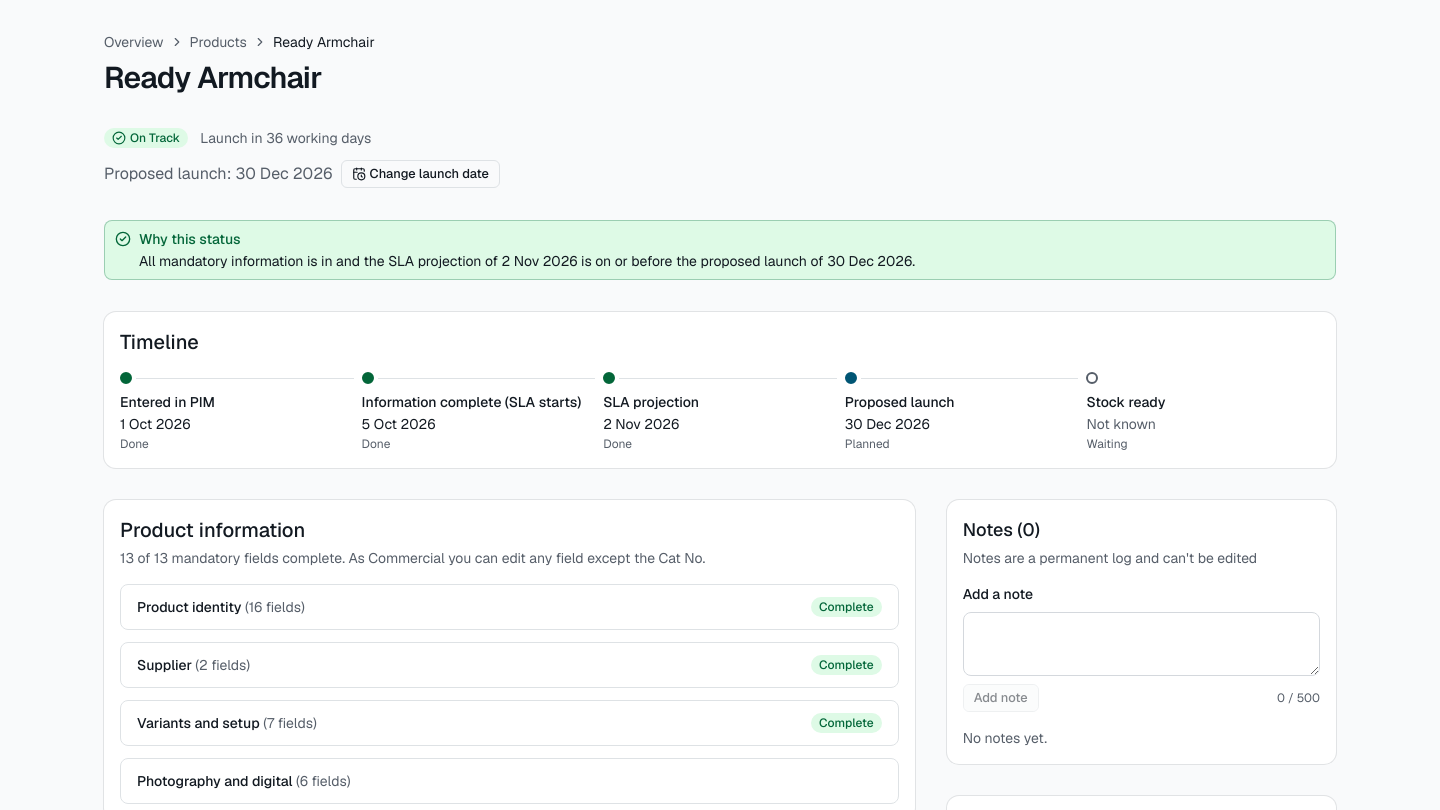
Test: ProductDetailView › launch date › lets the commercial team change the proposed date and cancel
Click the button "Change launch date" at x=420, y=174, box [341, 160, 500, 188]
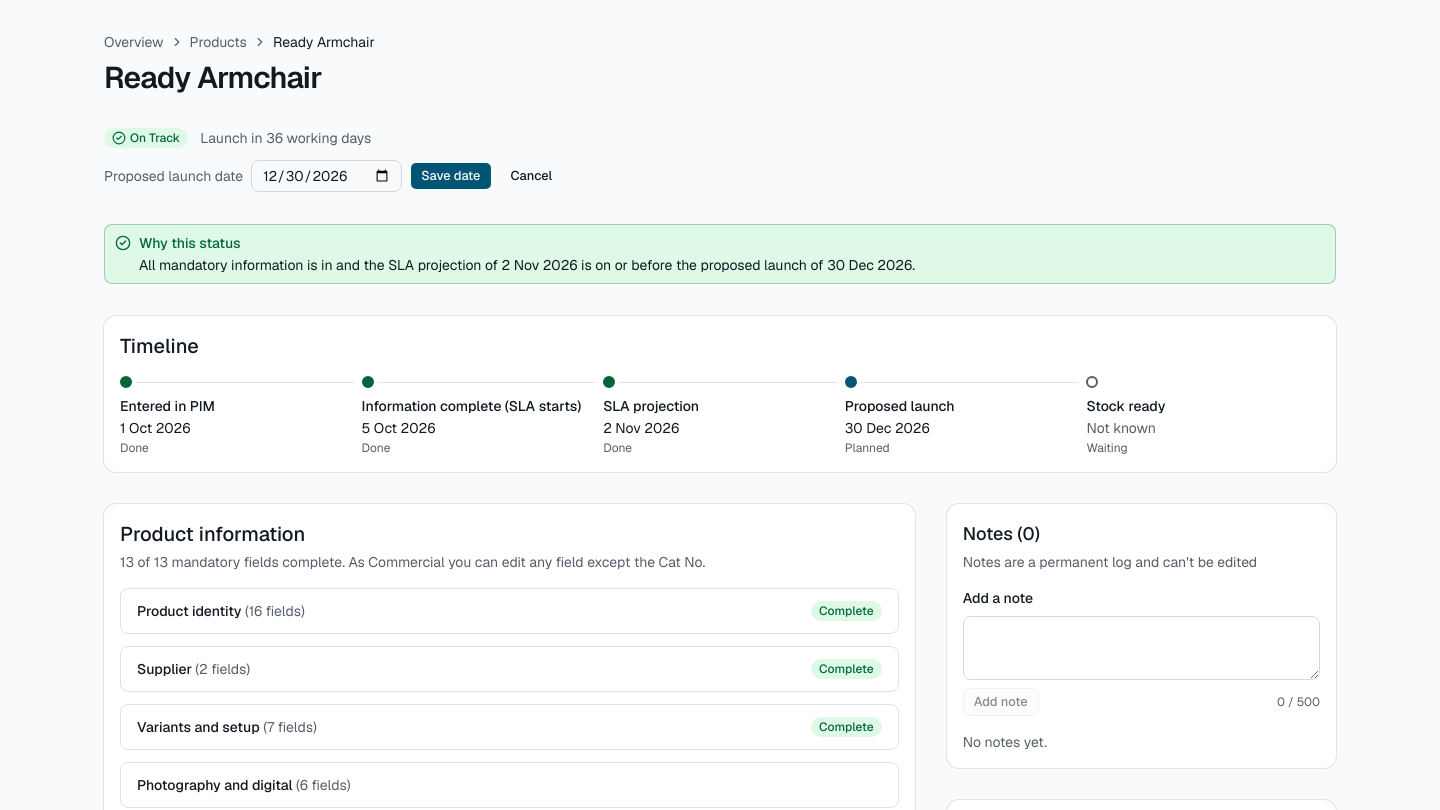
Expected: the date field labelled "Proposed launch date" is shown, [251, 160, 402, 192]
Click the button "Cancel" at x=531, y=176, box [500, 162, 563, 190]
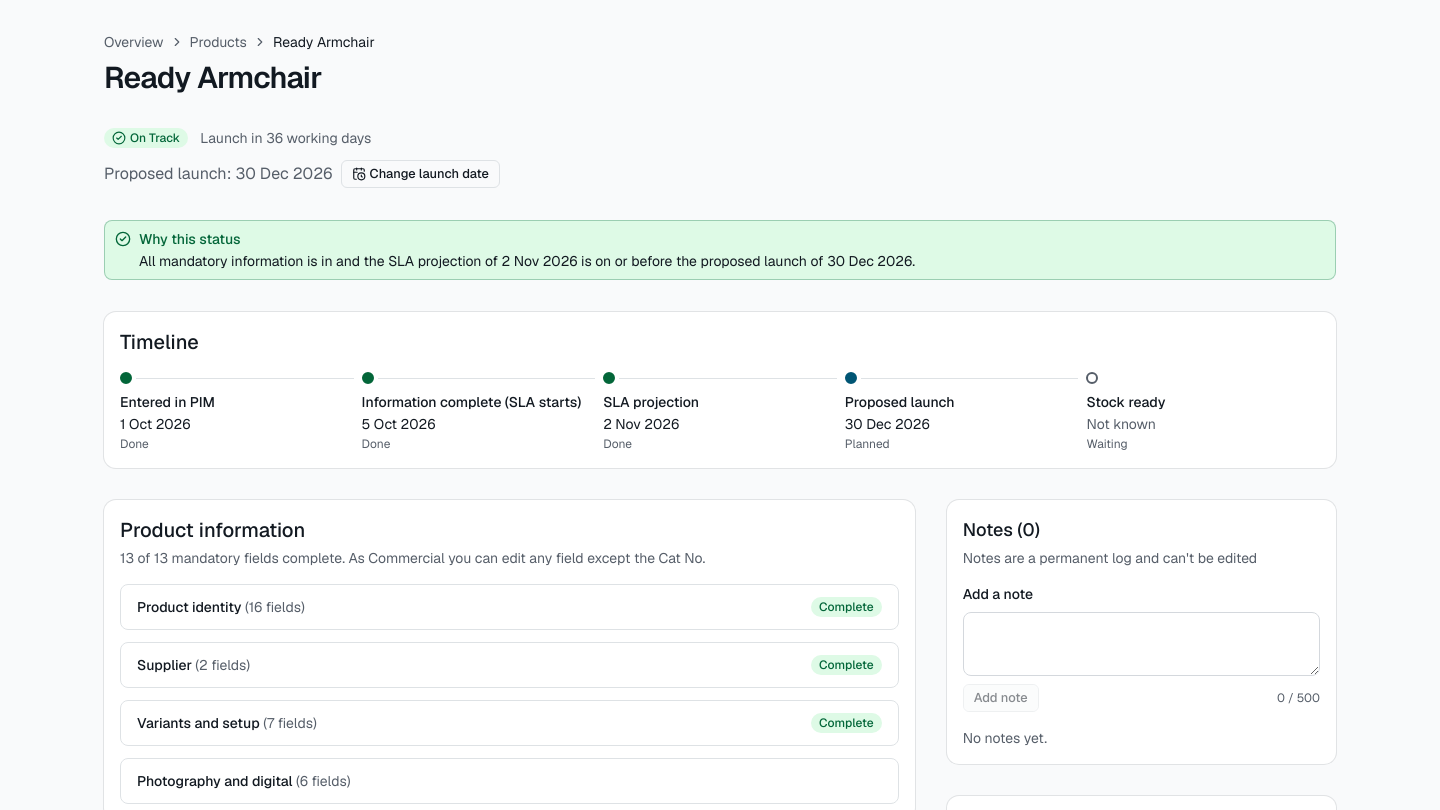
Expected: the label labelled "Proposed launch date" is gone
